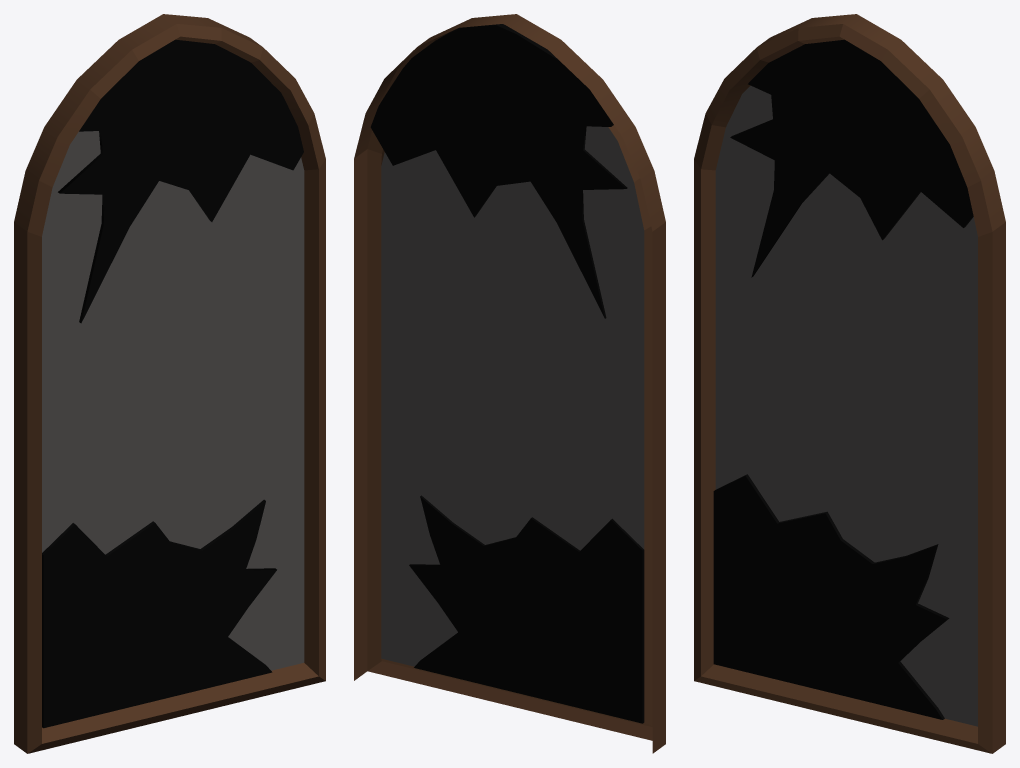
The model's file is VentanaGrandeRota.fbx.
3 renders of one model, left to right at view 1: azimuth 30°, elevation 25°; view 2: azimuth 150°, elevation 25°; view 3: azimuth 330°, elevation 25°, orthographic.
Parts seen in each view (by area): view 1: VentanaGrandeRota; view 2: VentanaGrandeRota; view 3: VentanaGrandeRota.
Part boxes in pixels (box(x1,y1,x2,y2)): VentanaGrandeRota: box(14, 14, 325, 753); VentanaGrandeRota: box(354, 14, 665, 753); VentanaGrandeRota: box(694, 14, 1005, 753).
Size of the model in its own units: 124 by 276 by 12.37.
